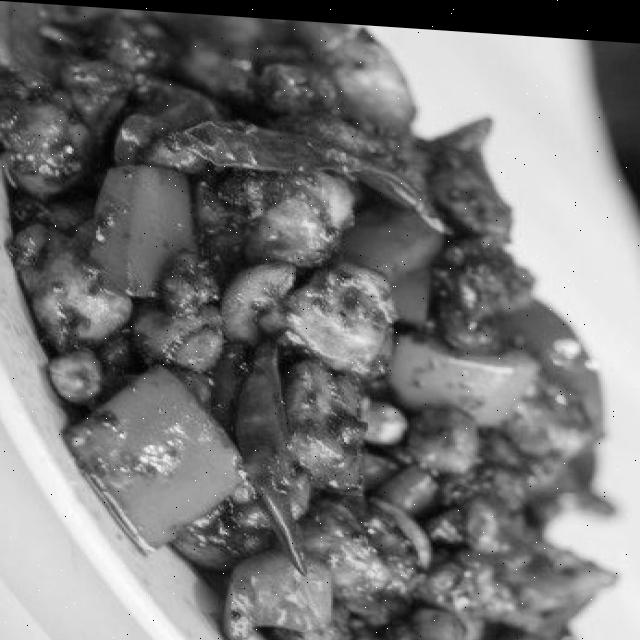鸡肉料理 含炸鸡: (11, 15, 614, 640)
